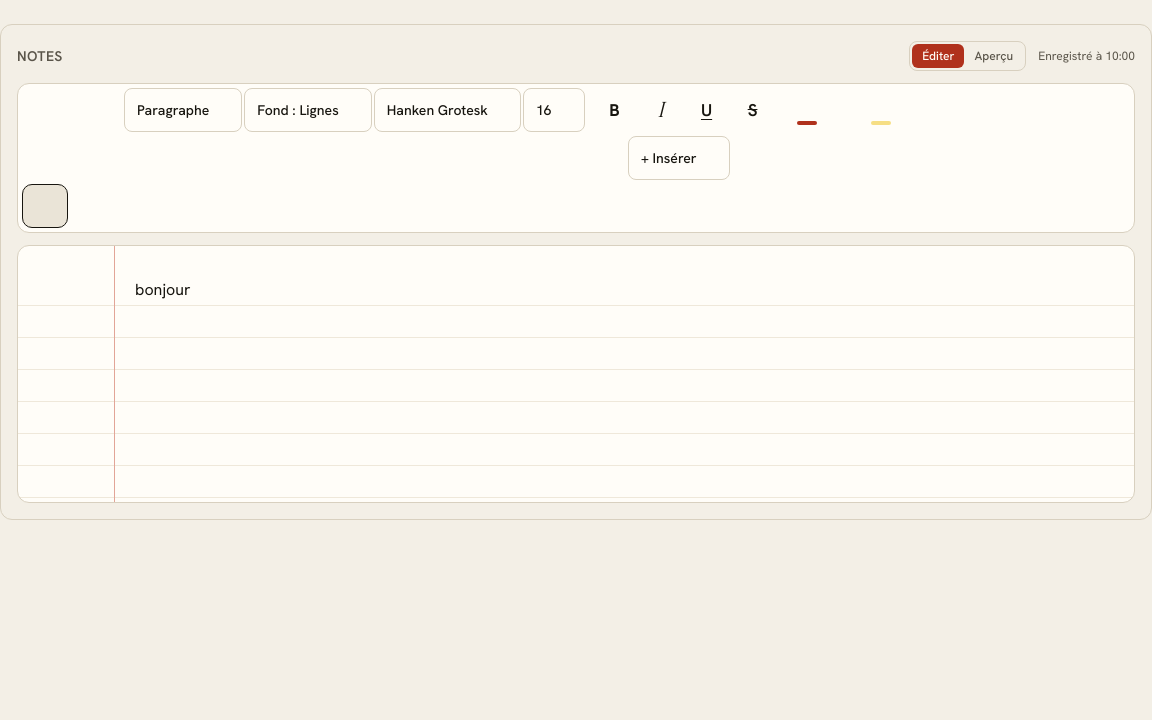
it: FormattingToolbar (YC-41) › link › Ctrl+K opens the field; an address without scheme becomes https
Press k in the field named "Note de la vidéo", box [135,279,190,300]
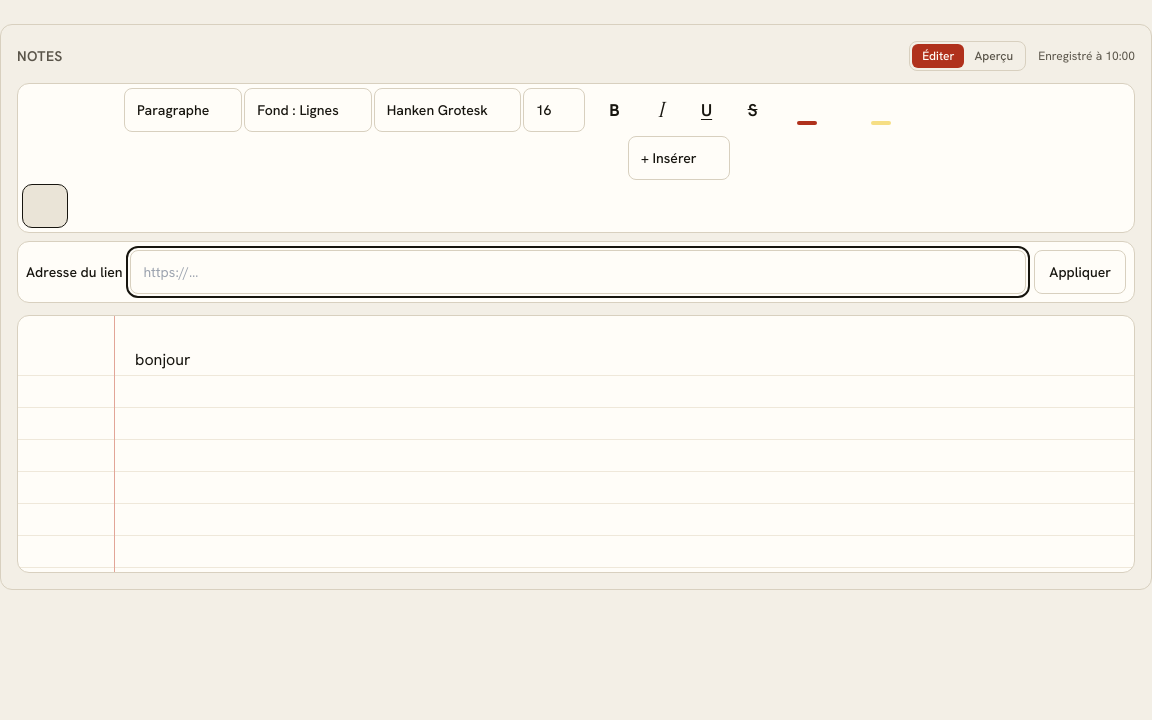
Type "react.dev" into the field labelled "Adresse du lien" at (578, 272), box [130,250,1026,294]
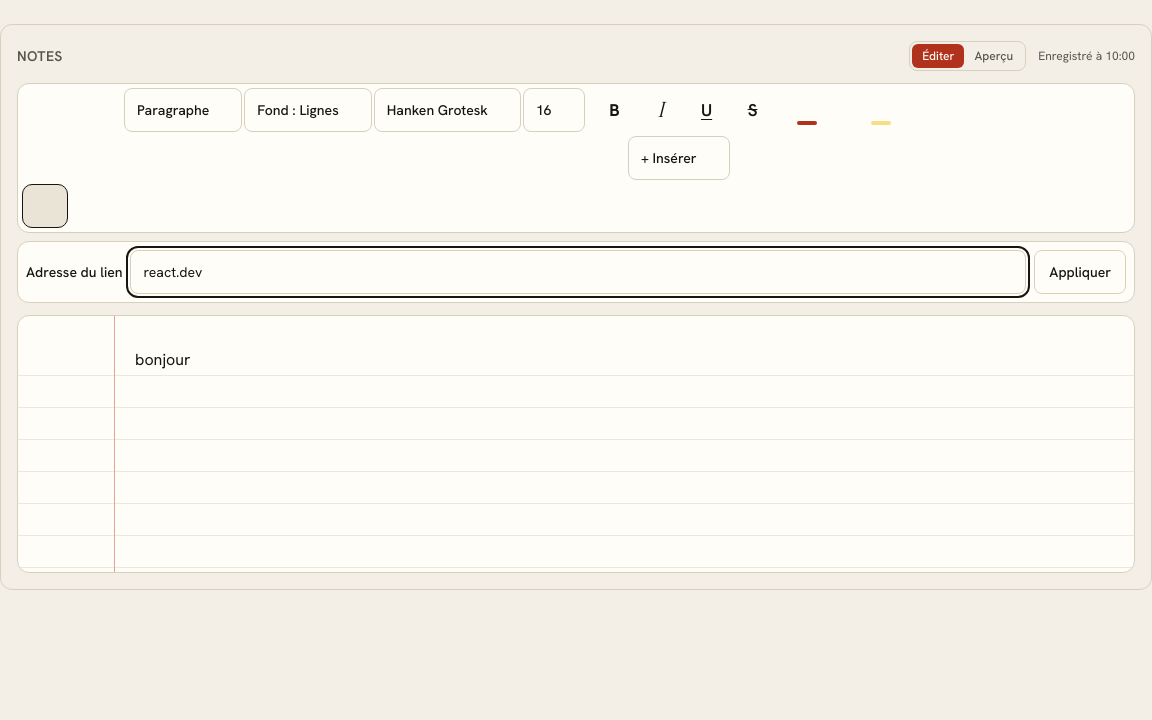
Submit the form labelled "Adresse du lien", box [17,241,1135,303]
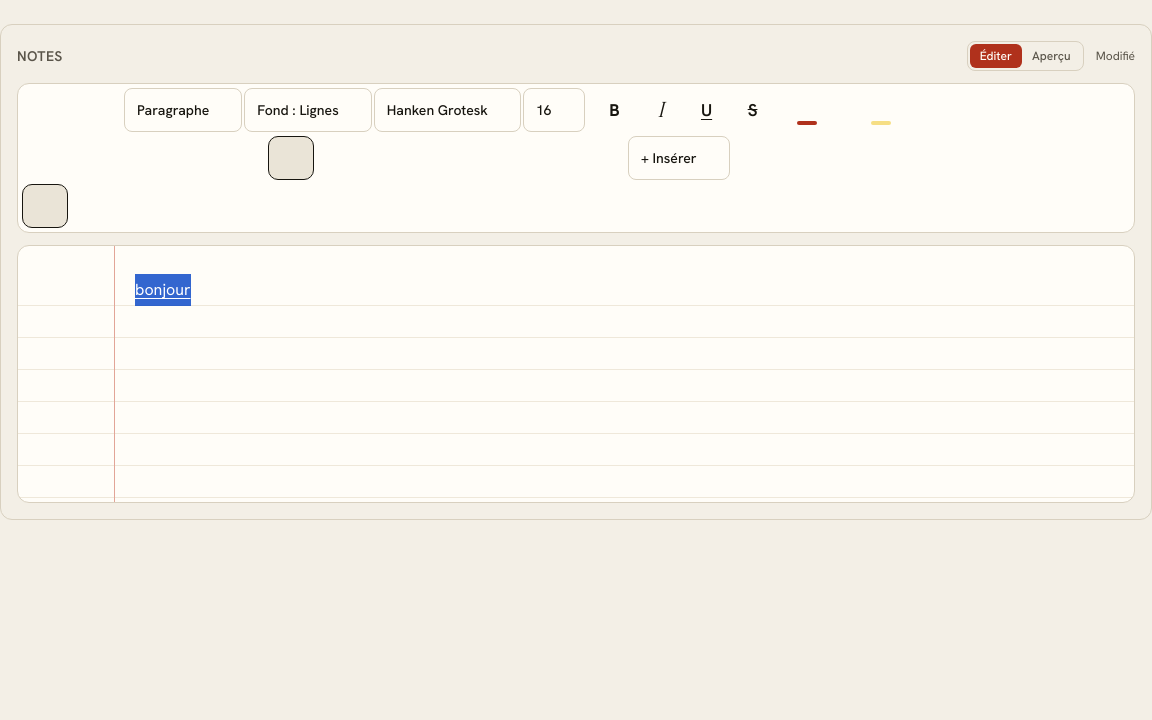
Check: the label labelled "Adresse du lien" is gone
